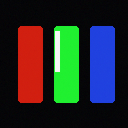4 line_v: (55, 31, 59, 71)
